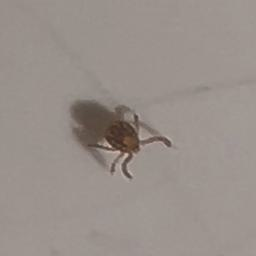Dermacentor variabilis: (87, 112, 171, 180)
